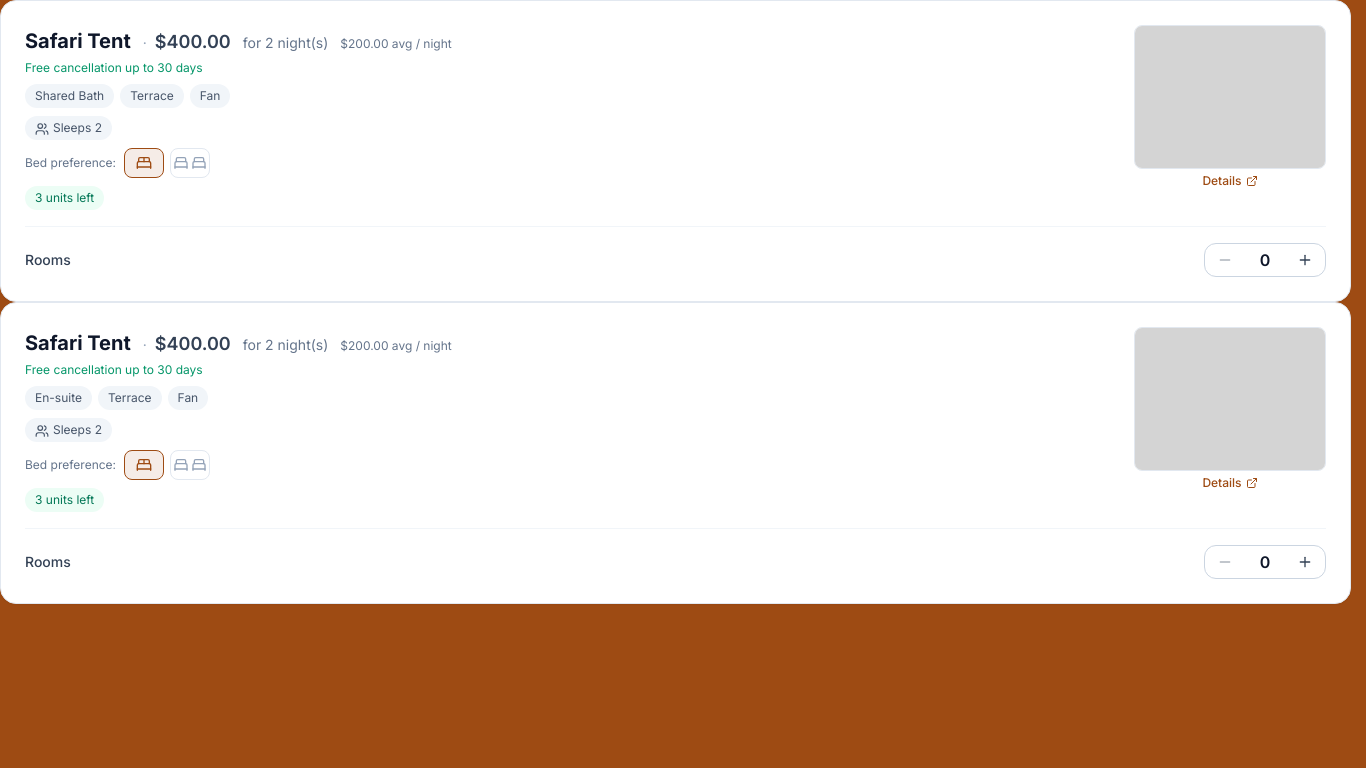
React.memo isolation › sibling card qty display is unaffected when a different card is updated
Expected: the text with test id "text-qty-r1" reads "0", [1260,250,1270,270]
Expected: the text with test id "text-qty-r2" reads "0", [1260,552,1270,572]
# Increment card 1's qty.
What coordinates should you click on to do the following:
click the button with test id "button-inc-r1"
I would click on:
 (1305, 260)
Its box is [1285,244,1325,276].
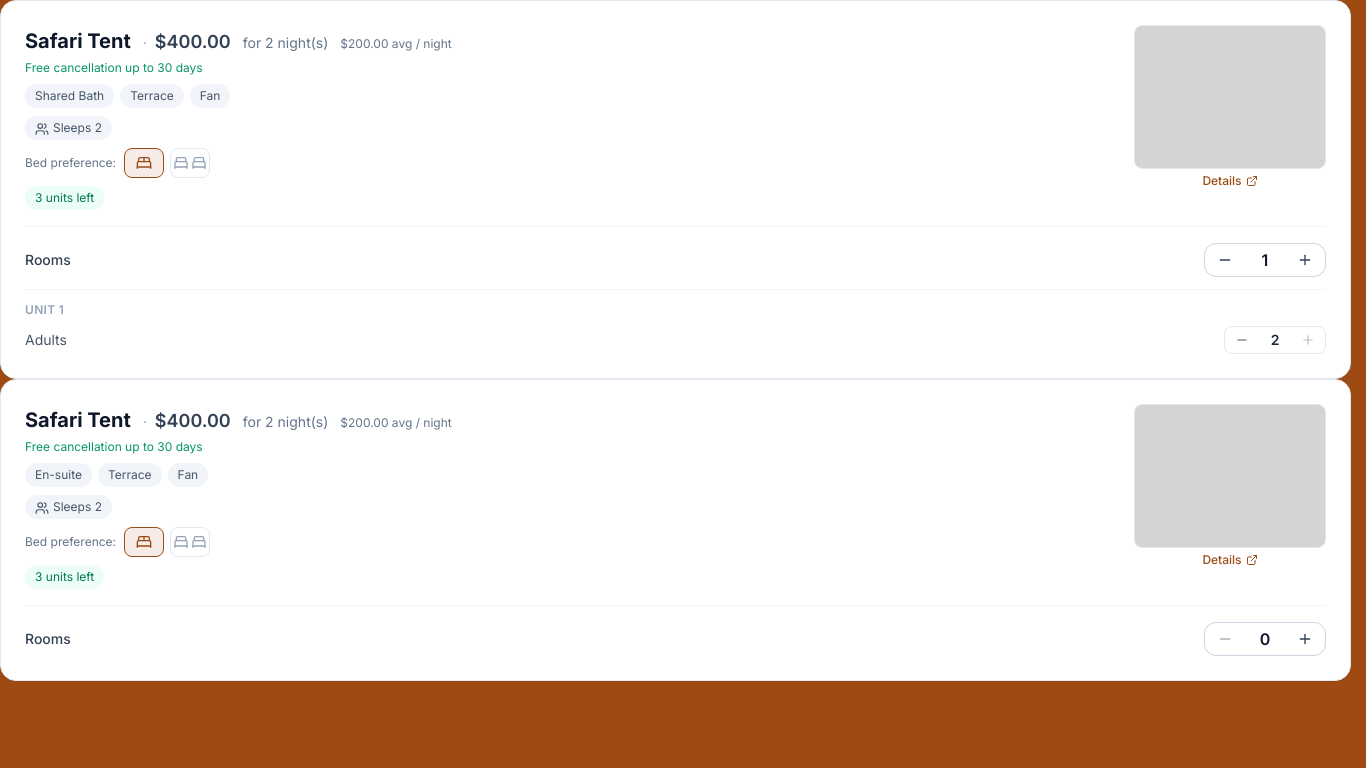
Expected: the text with test id "text-qty-r2" reads "0", [1260,629,1270,649]
Now the text with test id "text-qty-r1" reads "1", box [1262,250,1268,270]
